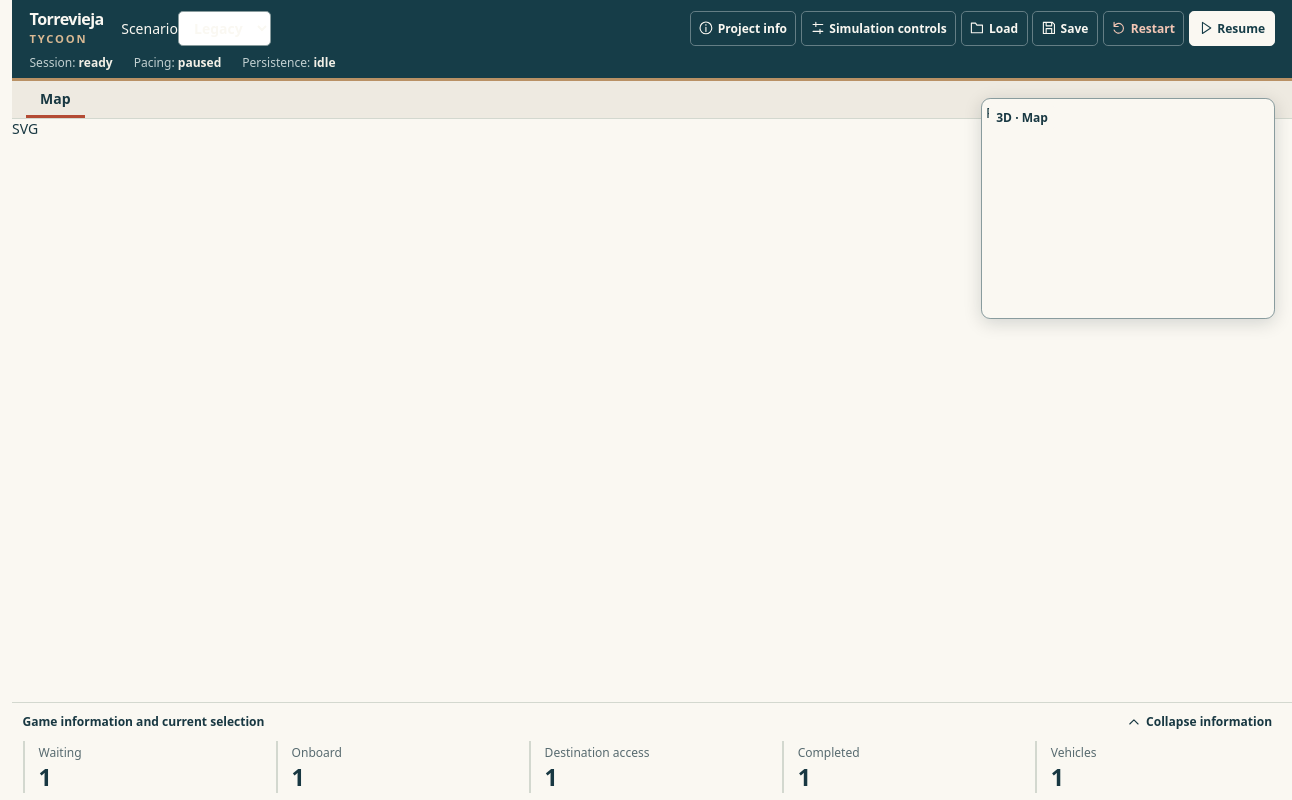
Test: collapses the information dock without changing its presentation content
Step 1. Click the button "Collapse information" → {"x": 1200, "y": 722}, box [1118,708,1282,736]
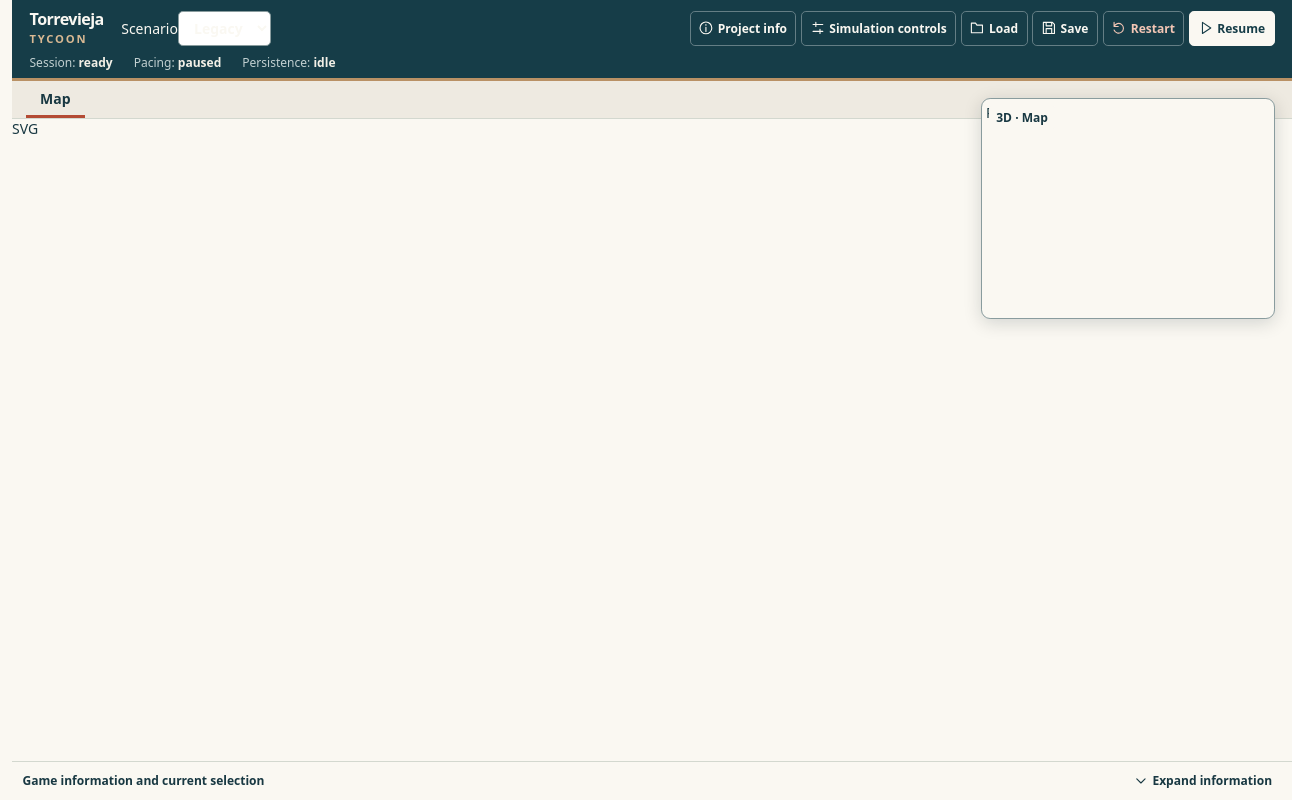
Result: the button "Expand information" is collapsed
Result: the element with test id "passenger-summary" is gone
Step 2. Click the button "Expand information" → {"x": 1203, "y": 781}, box [1124,767,1282,795]
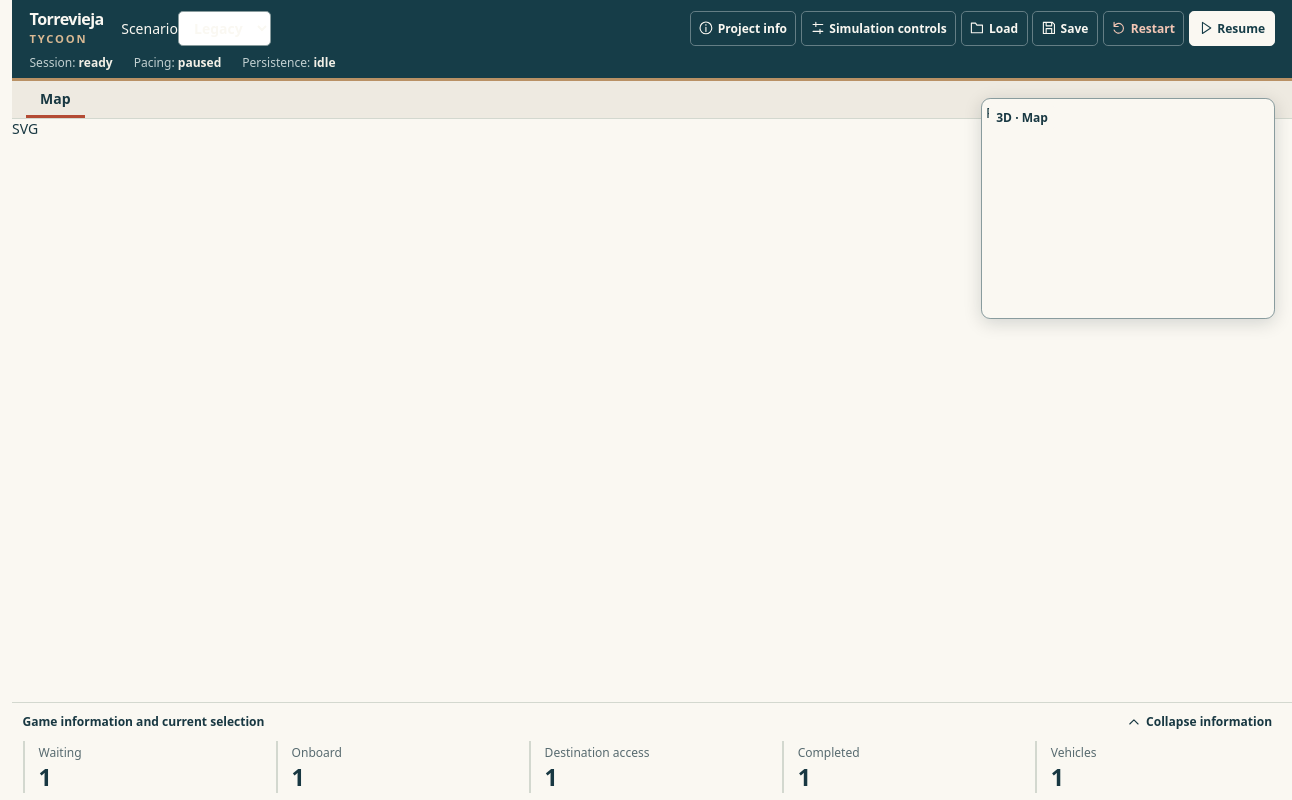
Result: the element with test id "passenger-summary" shows "Waiting" at [38,744,82,761]
